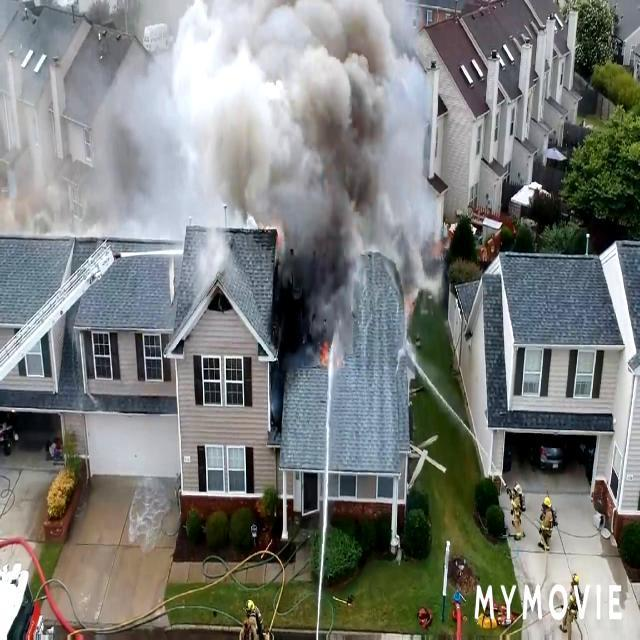Smoke: (2, 6, 276, 240), (260, 0, 432, 304)
